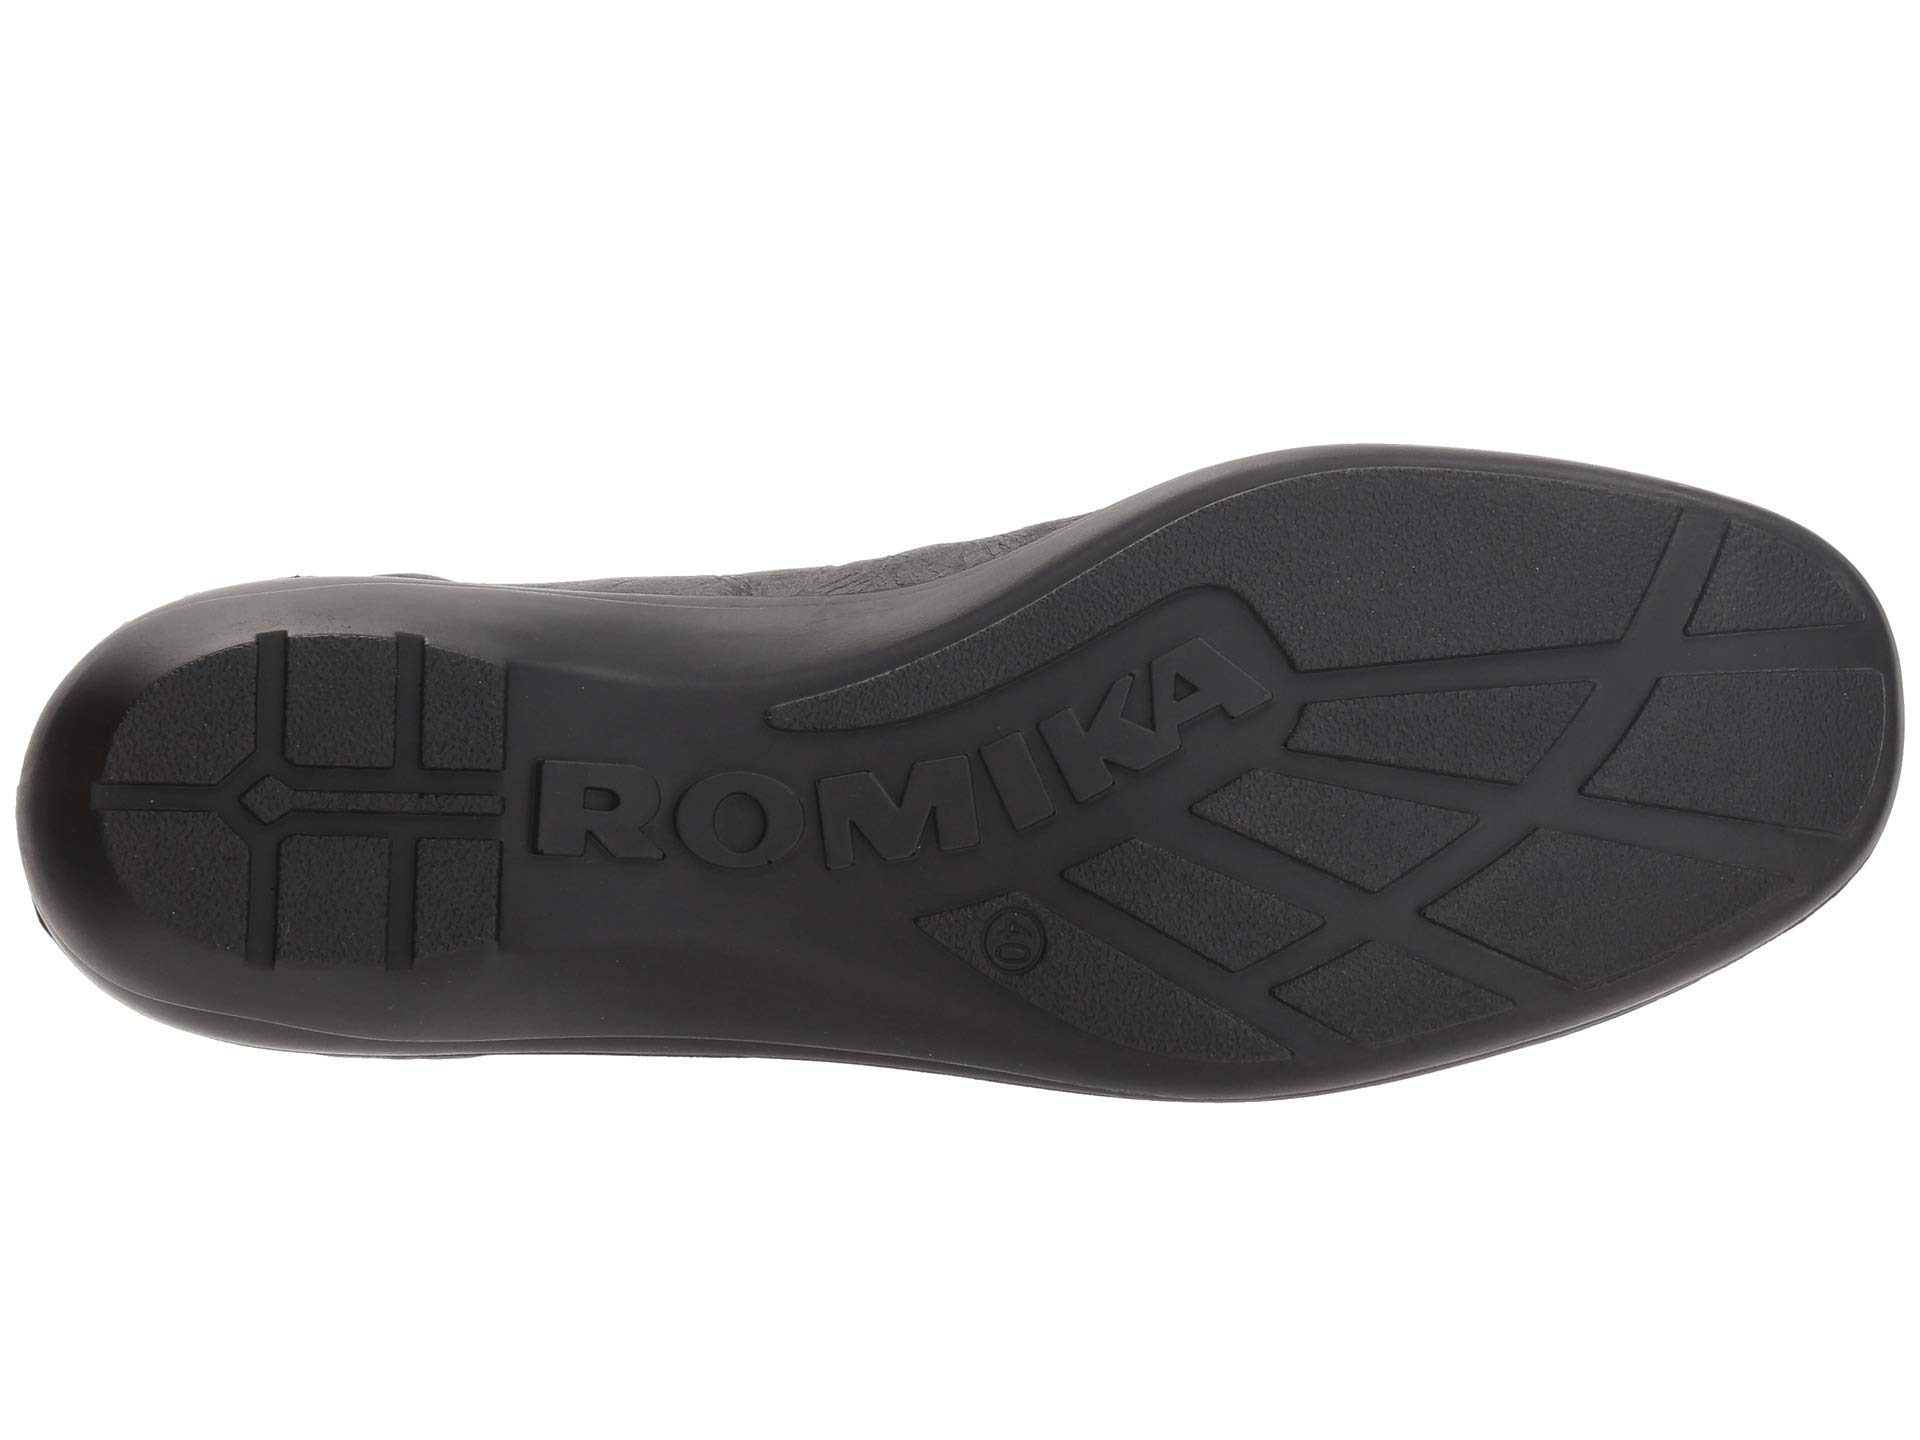circle: (972, 880, 1054, 1007)
quad: (1046, 843, 1370, 979), (1285, 669, 1596, 797), (265, 812, 401, 988), (274, 622, 420, 768)
text: (972, 880, 1054, 1007)
